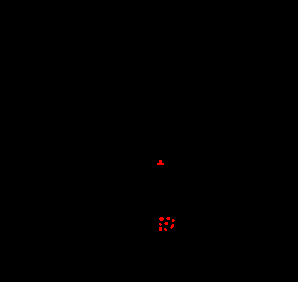Target: (157, 160, 164, 165), (159, 217, 164, 221), (170, 224, 174, 229), (166, 217, 170, 220), (164, 222, 168, 225), (159, 227, 162, 231), (172, 219, 175, 222), (159, 223, 162, 226), (164, 228, 167, 231)
